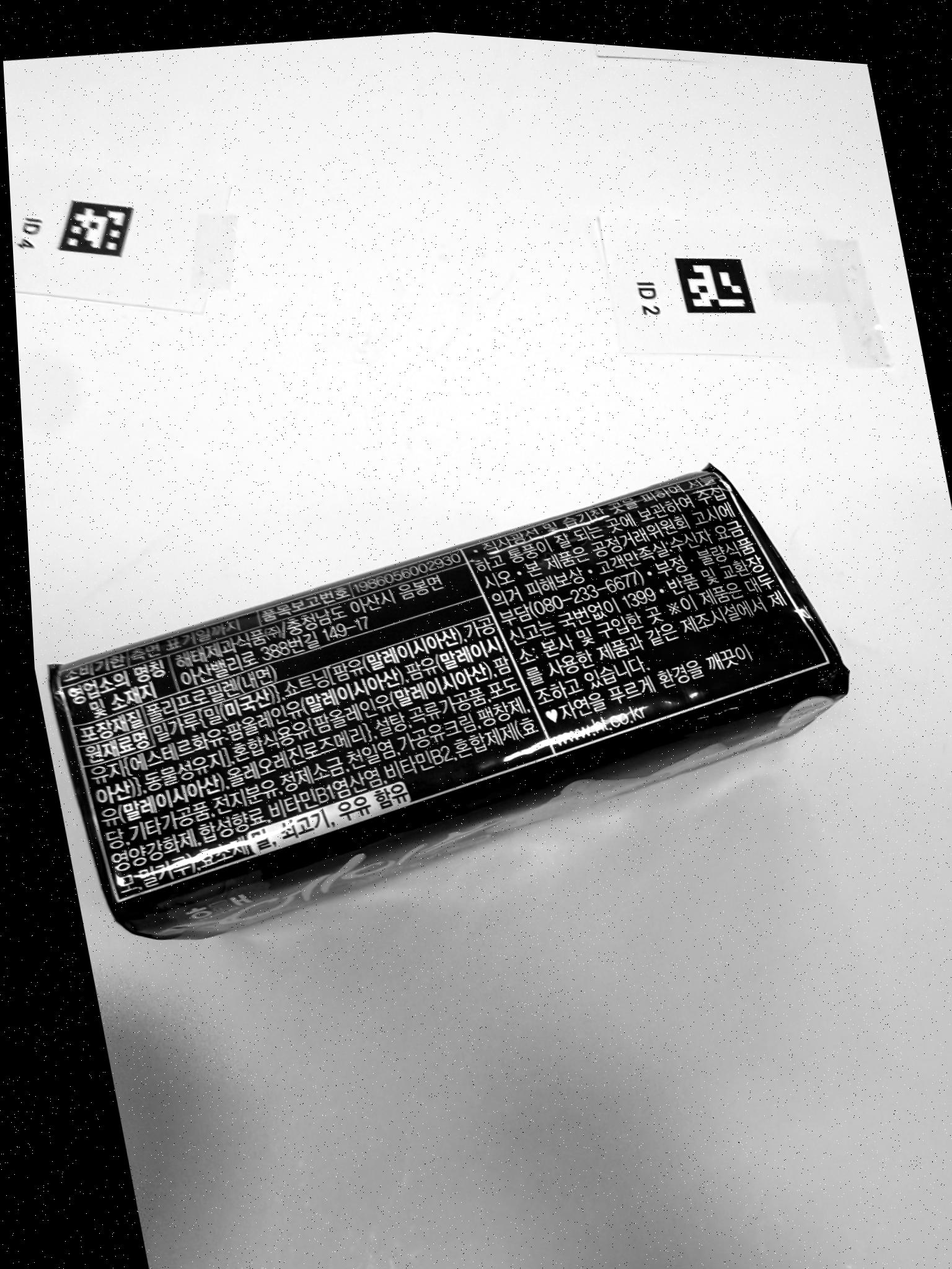cracker_ace: (49, 467, 848, 938)
